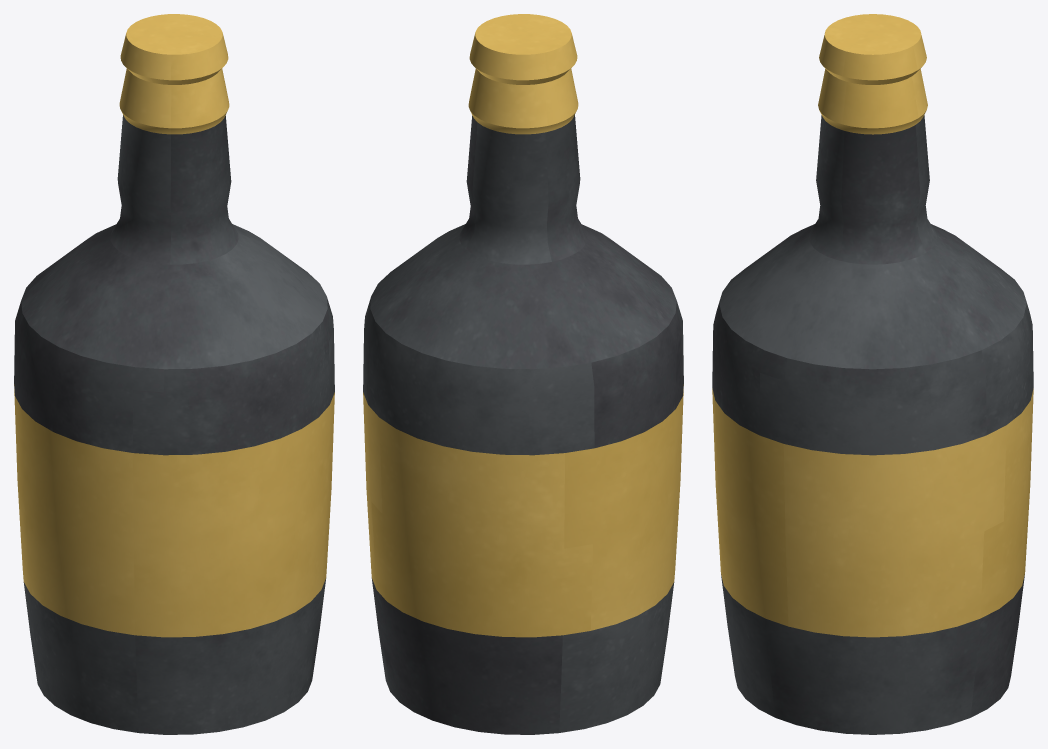
Rendered from Виски.fbx.
3 views of the same model, side by side, from view 1: azimuth 30°, elevation 25°; view 2: azimuth 150°, elevation 25°; view 3: azimuth 270°, elevation 25° (orthographic).
Visible parts, largest first — view 1: Circle; view 2: Circle; view 3: Circle.
Boxes of the visible parts, bbox=[...] form: Circle: bbox=[14, 14, 334, 734]; Circle: bbox=[363, 14, 683, 734]; Circle: bbox=[712, 14, 1033, 734].
Bounding box in the file's own units: 13.67 × 30.13 × 13.67.
2 materials, 2 textured.
